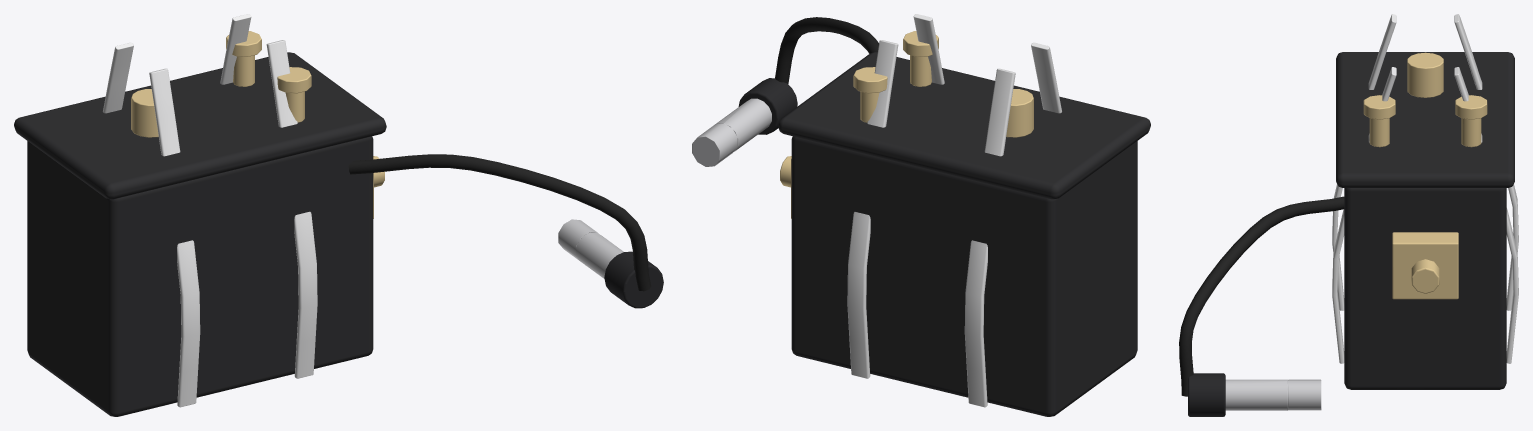
File: bike_pioneer__spark_plug.glb
The picture shows the model from 3 angles, left to right: view 1: azimuth 30°, elevation 25°; view 2: azimuth 150°, elevation 25°; view 3: azimuth 270°, elevation 25°; orthographic projection. The views are drawn at different scales.
Visible parts, largest first — view 1: electrical__coil_box, electrical__coil_box__straps, wiring__ht_lead, electrical__coil_box__terminals, electrical__spark_plug__terminal, electrical__spark_plug; view 2: electrical__coil_box, electrical__coil_box__straps, electrical__coil_box__terminals, electrical__spark_plug, wiring__ht_lead, electrical__spark_plug__terminal; view 3: electrical__coil_box, electrical__coil_box__straps, electrical__trembler_coil, electrical__coil_box__terminals, wiring__ht_lead, electrical__spark_plug, electrical__spark_plug__terminal.
Part boxes in pixels (x1=…): electrical__coil_box: x1=14, y1=52, x2=386, y2=416; electrical__coil_box__straps: x1=103, y1=14, x2=317, y2=407; wiring__ht_lead: x1=348, y1=154, x2=651, y2=291; electrical__coil_box__terminals: x1=131, y1=31, x2=311, y2=137; electrical__spark_plug__terminal: x1=604, y1=251, x2=663, y2=308; electrical__spark_plug: x1=558, y1=219, x2=623, y2=278; electrical__coil_box: x1=778, y1=52, x2=1150, y2=416; electrical__coil_box__straps: x1=847, y1=14, x2=1061, y2=407; electrical__coil_box__terminals: x1=853, y1=31, x2=1033, y2=137; electrical__spark_plug: x1=692, y1=98, x2=771, y2=166; wiring__ht_lead: x1=775, y1=17, x2=878, y2=83; electrical__spark_plug__terminal: x1=738, y1=78, x2=797, y2=134; electrical__coil_box: x1=1336, y1=52, x2=1514, y2=389; electrical__coil_box__straps: x1=1332, y1=14, x2=1518, y2=363; electrical__trembler_coil: x1=1392, y1=232, x2=1458, y2=299; electrical__coil_box__terminals: x1=1363, y1=52, x2=1487, y2=147; wiring__ht_lead: x1=1179, y1=196, x2=1344, y2=396; electrical__spark_plug: x1=1225, y1=379, x2=1321, y2=410; electrical__spark_plug__terminal: x1=1188, y1=373, x2=1225, y2=416.
Size of the model in its own units: 24.37 by 15.34 by 16.31.
